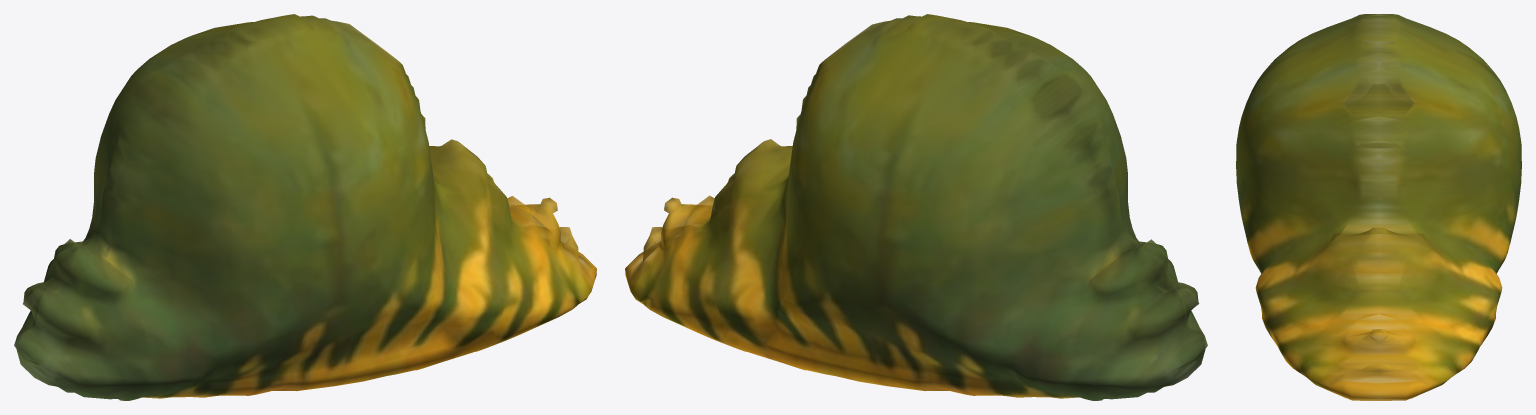
Rendered from 01_rocks_and_bushes_r02_c08.glb.
The picture shows the model from 3 angles, left to right: view 1: azimuth 30°, elevation 25°; view 2: azimuth 150°, elevation 25°; view 3: azimuth 270°, elevation 25°; orthographic projection. The views are drawn at different scales.
Parts seen in each view (by area): view 1: 01_rocks_and_bushes_r02_c08; view 2: 01_rocks_and_bushes_r02_c08; view 3: 01_rocks_and_bushes_r02_c08.
Boxes of the visible parts, left/top/right/bottom form: 01_rocks_and_bushes_r02_c08: left=14, top=14, right=596, bottom=400; 01_rocks_and_bushes_r02_c08: left=625, top=14, right=1207, bottom=400; 01_rocks_and_bushes_r02_c08: left=1236, top=14, right=1521, bottom=400.
Bounding box in the file's own units: 1.7 × 0.9801 × 0.9396.
1 material, 1 textured.
